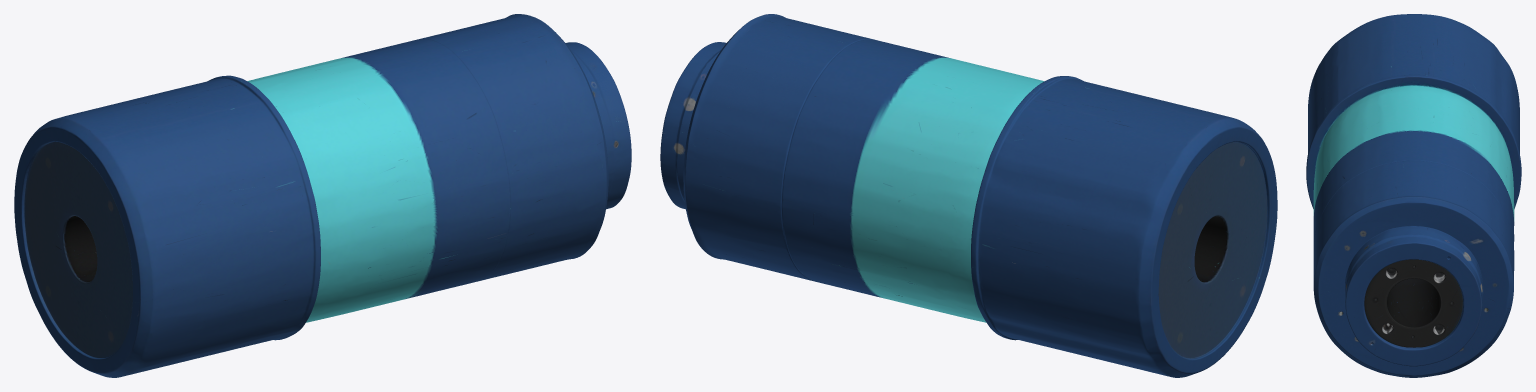
File: Arm_Down.fbx
The picture shows the model from 3 angles, left to right: view 1: azimuth 30°, elevation 25°; view 2: azimuth 150°, elevation 25°; view 3: azimuth 270°, elevation 25°; orthographic projection. The views are drawn at different scales.
Visible parts, largest first — view 1: Mesh_0; view 2: Mesh_0; view 3: Mesh_0.
Boxes of the visible parts, x1,y1,x2,y2 form: Mesh_0: (14, 14, 631, 377); Mesh_0: (660, 14, 1277, 377); Mesh_0: (1306, 14, 1521, 377).
Bounding box in the file's own units: 190 × 86.69 × 86.7.
Materials: 1 (1 with a texture image).
